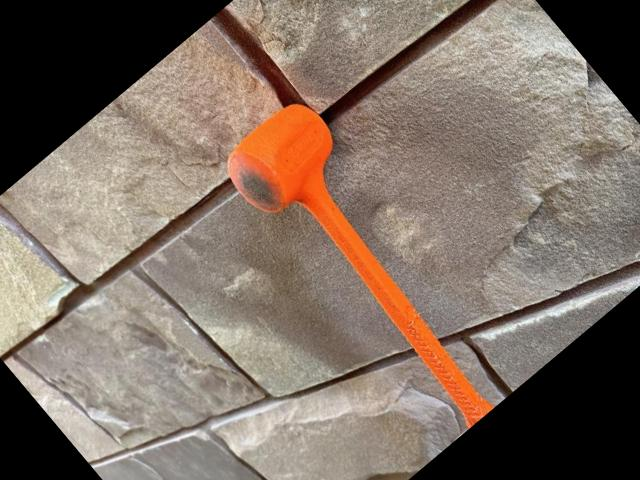hammer: (212, 89, 536, 445)
